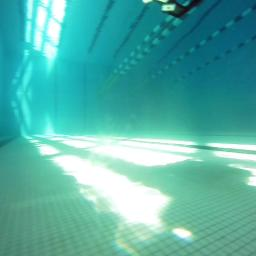back: (137, 0, 203, 19)
